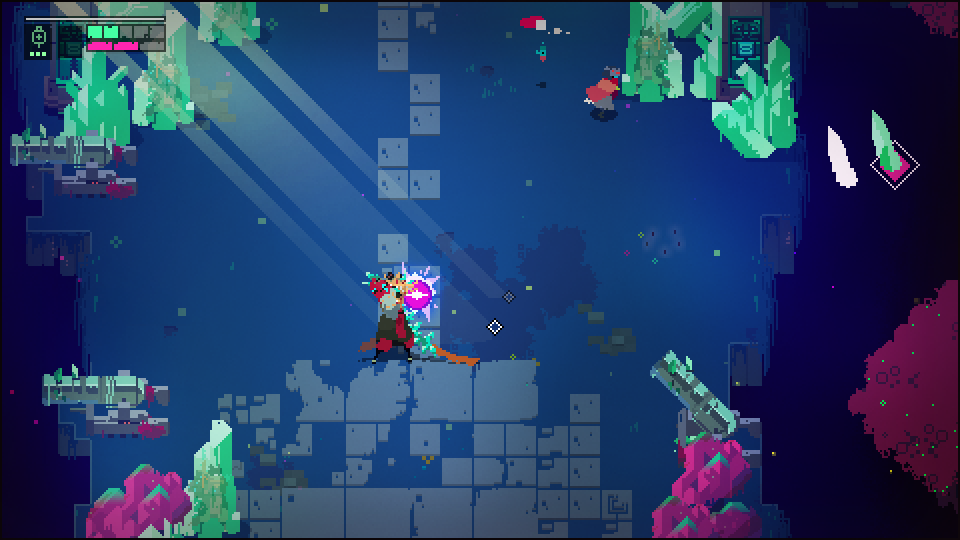hanged_crys: (868, 112, 904, 174)
hanged_man: (355, 268, 446, 373)
hanged_shot: (402, 278, 435, 313)
player: (581, 64, 624, 119)
